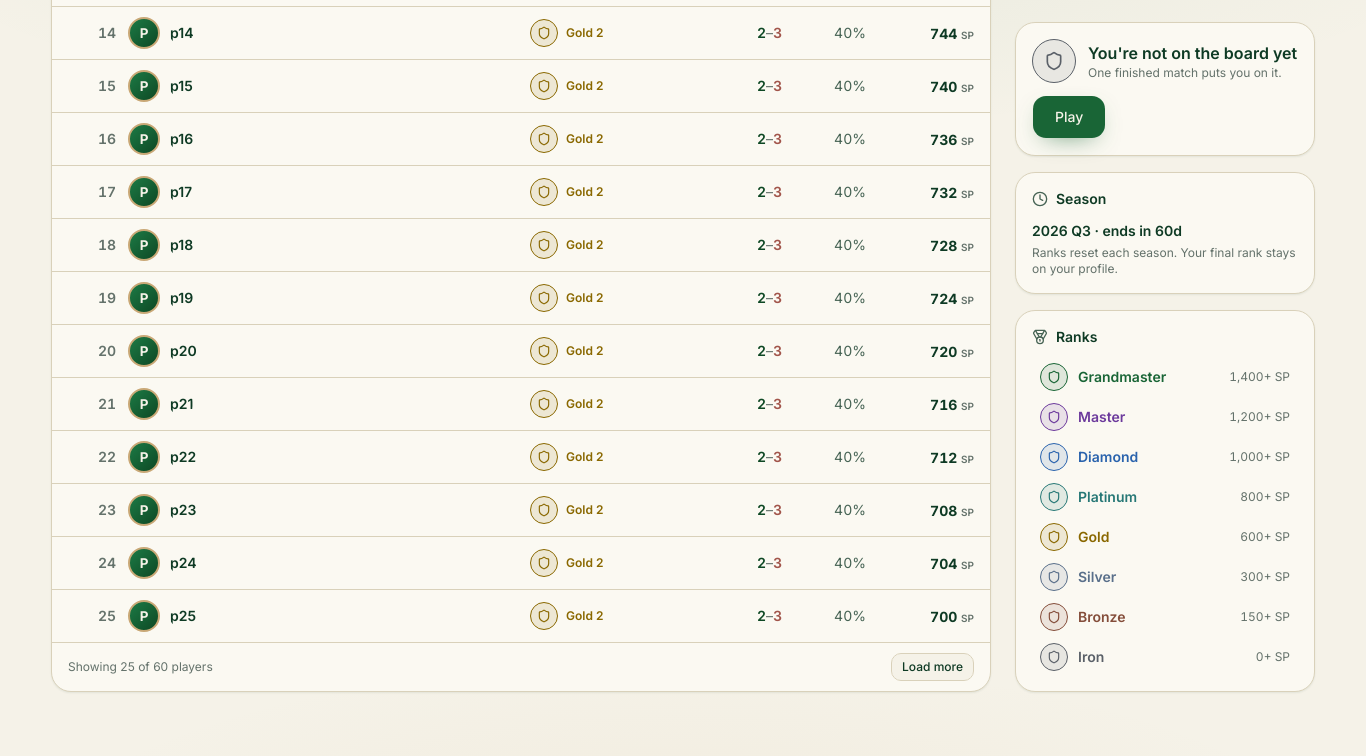
LeaderboardPage › retires load more when the last page came back empty but total says more
The image size is (1366, 756).
(page scrolled)
Click the button with test id "leaderboard-load-more" at coordinates (932, 667), box top-left (891, 653), bottom-right (974, 681)
(page scrolled)
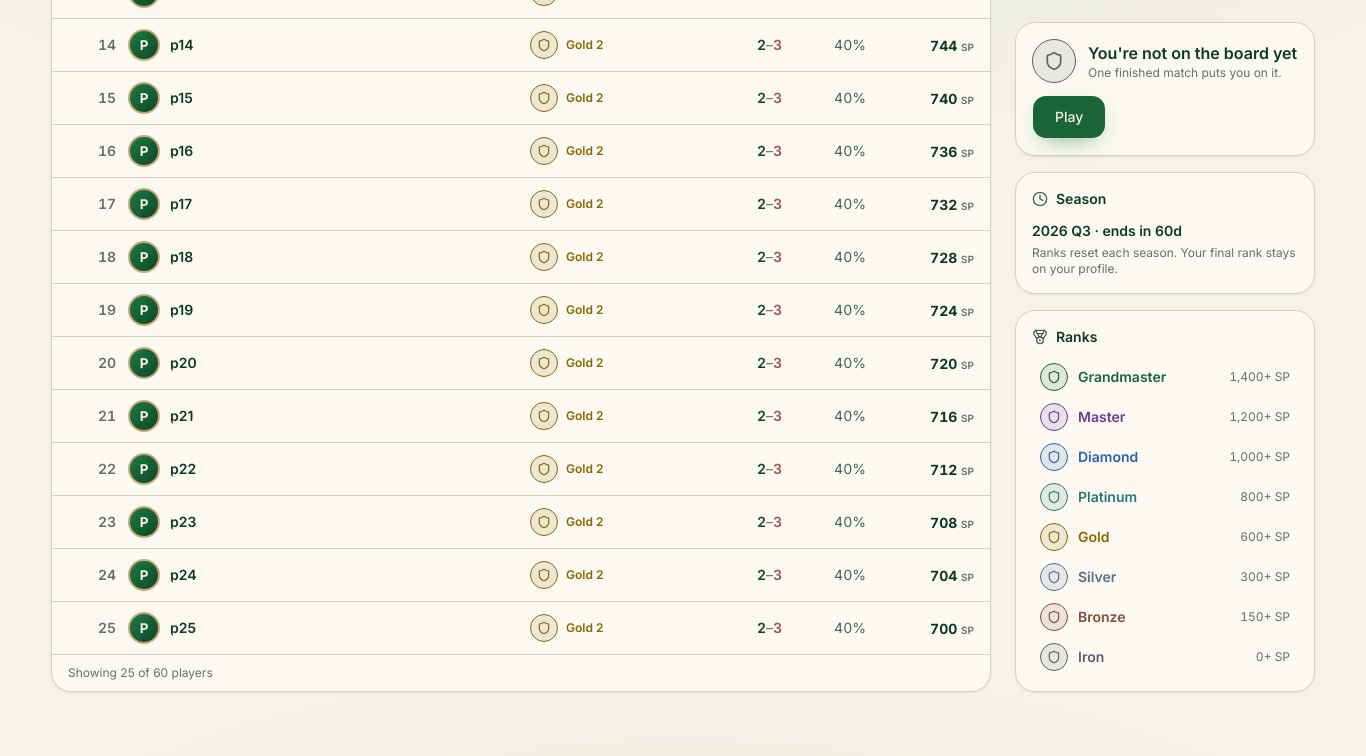
Check: the text with test id "leaderboard-count" shows "60", box top-left (68, 665), bottom-right (213, 680)
Check: the button with test id "leaderboard-load-more" is gone
